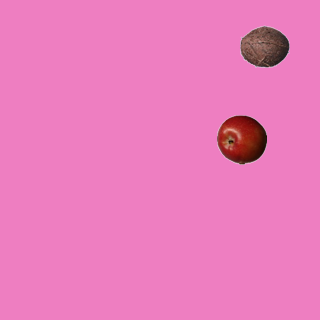Apple Braeburn: (216, 114, 266, 164)
Cocos: (239, 21, 289, 71)
